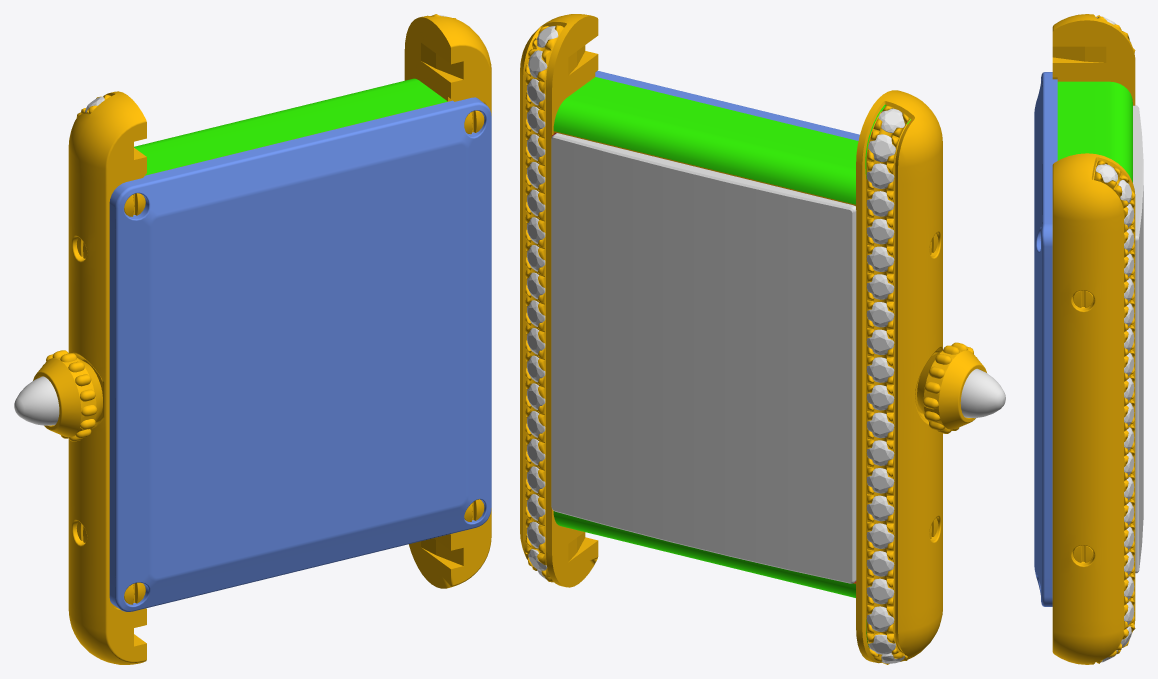
File: Tank_L_Watch_Diamonds.fbx
3 views of the same model, side by side, from view 1: azimuth 30°, elevation 25°; view 2: azimuth 150°, elevation 25°; view 3: azimuth 270°, elevation 25° (orthographic). The views are drawn at different scales.
Visible parts, largest first — view 1: Caseback, Tank_Case_Jewlery, Crystal; view 2: Glass, Tank_Case_Jewlery, Caseback, Crystal; view 3: Tank_Case_Jewlery, Caseback, Glass, Diamonds_017, Diamonds_018.
Part boxes in pixels (bbox=[...]): Caseback: bbox=[109, 97, 491, 611]; Tank_Case_Jewlery: bbox=[33, 14, 491, 664]; Crystal: bbox=[14, 376, 59, 425]; Glass: bbox=[551, 133, 856, 583]; Tank_Case_Jewlery: bbox=[520, 14, 986, 664]; Caseback: bbox=[595, 70, 859, 140]; Crystal: bbox=[960, 368, 1005, 418]; Tank_Case_Jewlery: bbox=[1052, 14, 1135, 664]; Caseback: bbox=[1034, 72, 1057, 606]; Glass: bbox=[1133, 105, 1143, 573]; Diamonds_017: bbox=[1095, 164, 1117, 182]; Diamonds_018: bbox=[1118, 180, 1131, 202].
Bounding box in the file's own units: 296 × 337 × 65.89.
